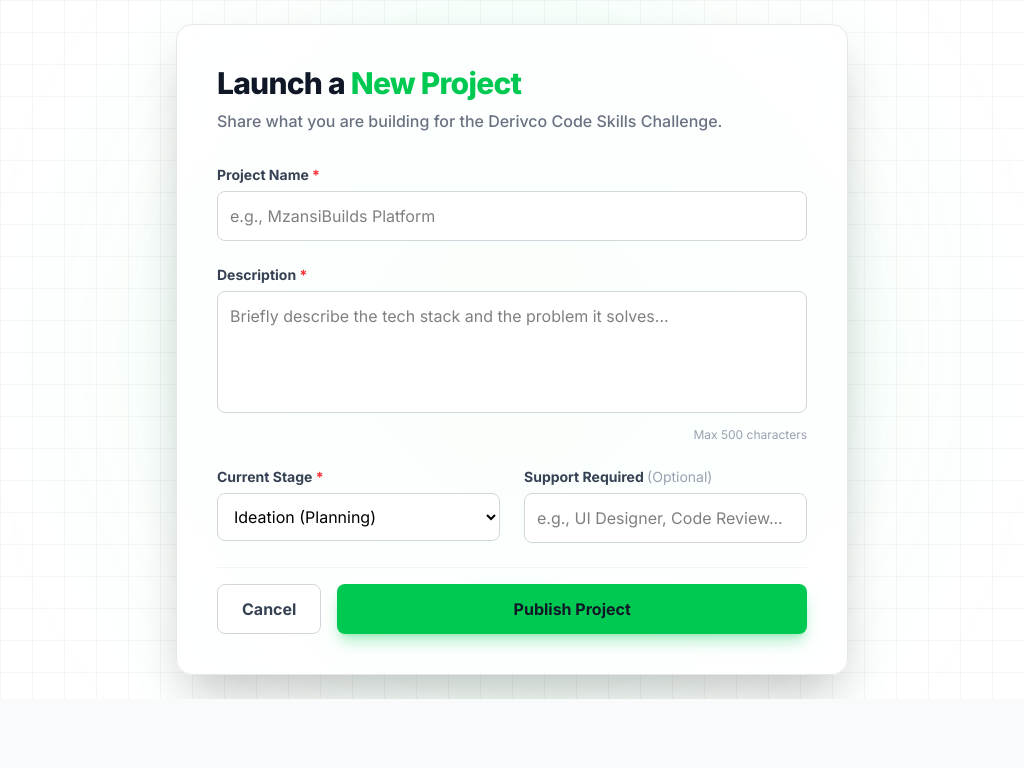
Test: NewProjectPage Component › submits successfully, shows loading state, and redirects to dashboard
The width and height of the screenshot is (1024, 768).
// Fill out the form
Type "My Test Project" into the field labelled "Project Name *" at (512, 216), box [217,191,807,241]
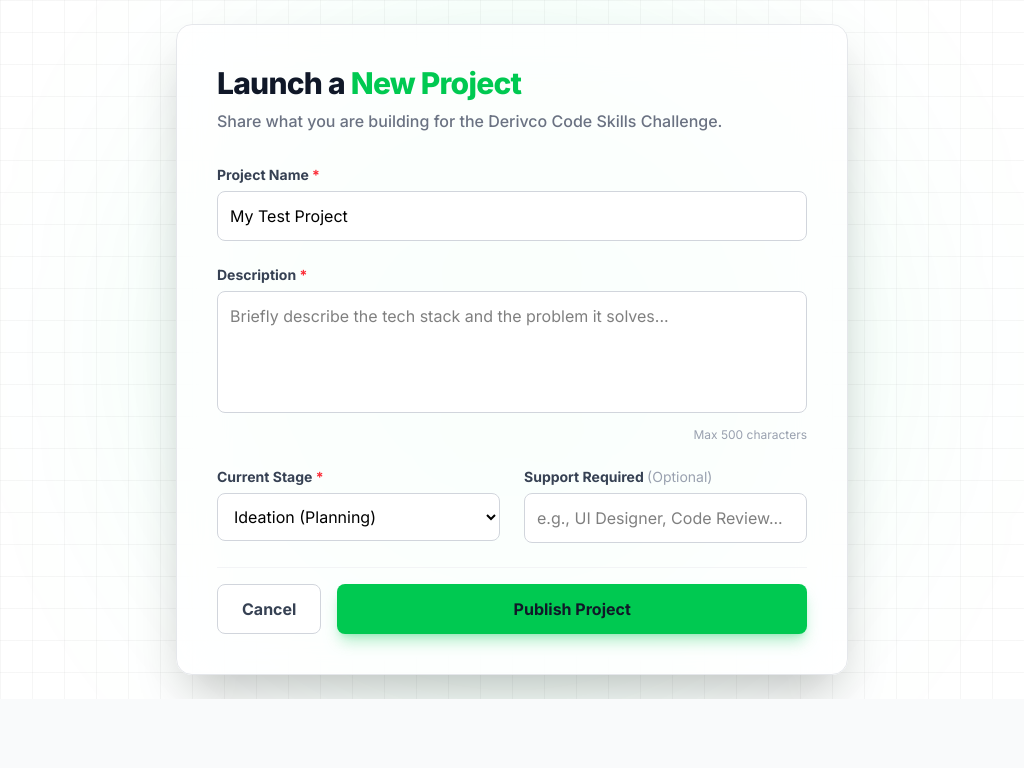
Type "This is a long enough description." into the text box labelled "Description *" at (512, 352), box [217,291,807,413]
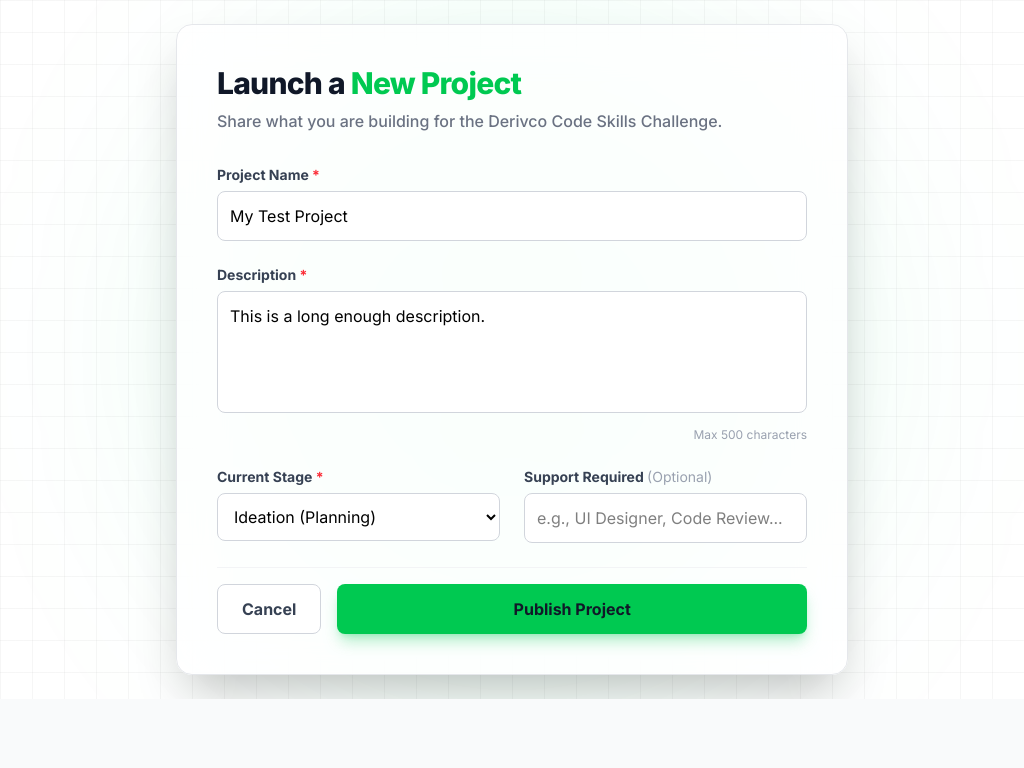
Select "Active Development" in the dropdown labelled "Current Stage *" at (358, 517), box [217,493,500,541]
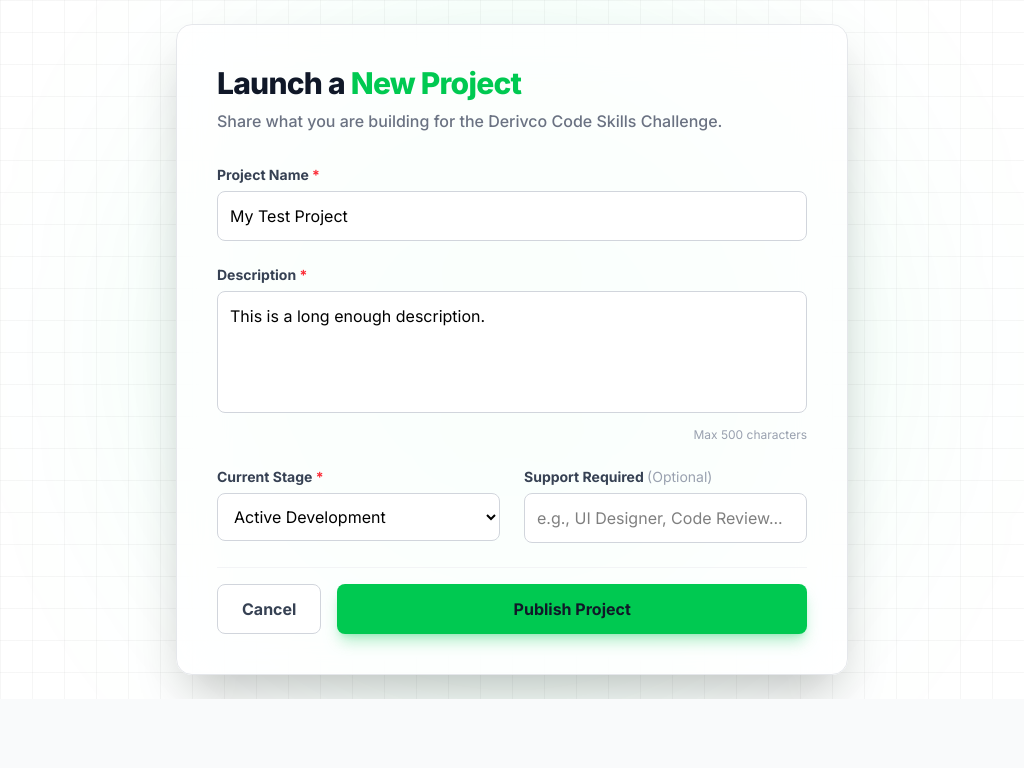
// Submit it!
Submit the form from the button "Publish Project", box [337,584,807,634]
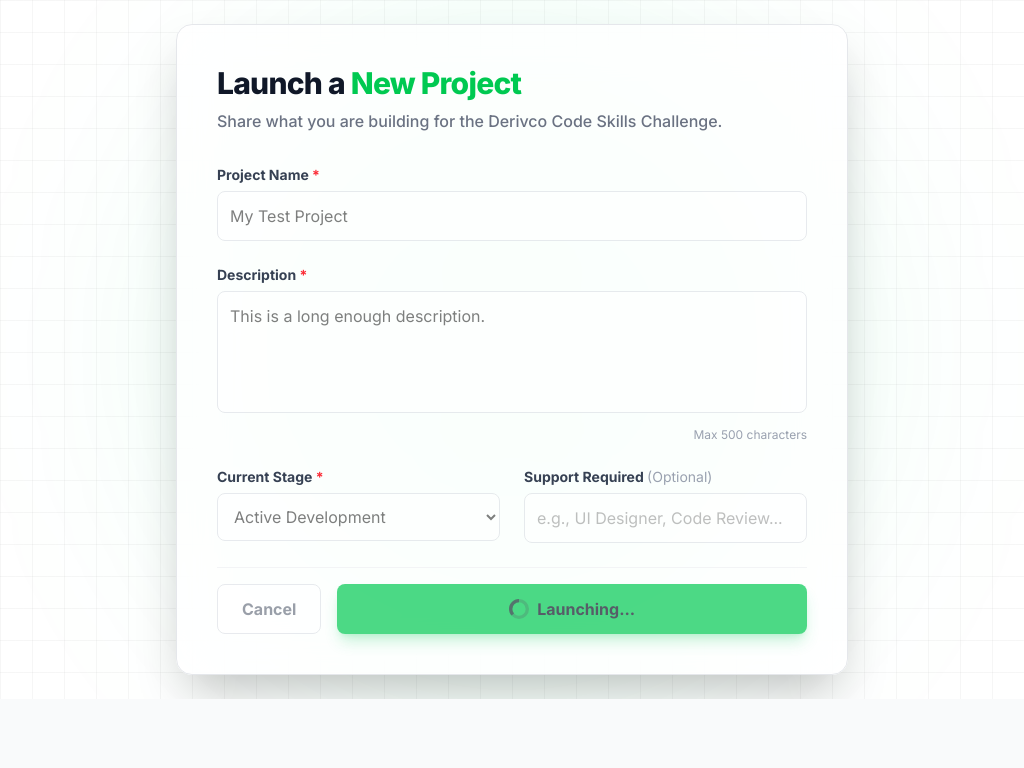
Expected: the button "Launching..." is disabled, [337,584,807,634]
Expected: the field labelled "Project Name *" is disabled, [217,191,807,241]
